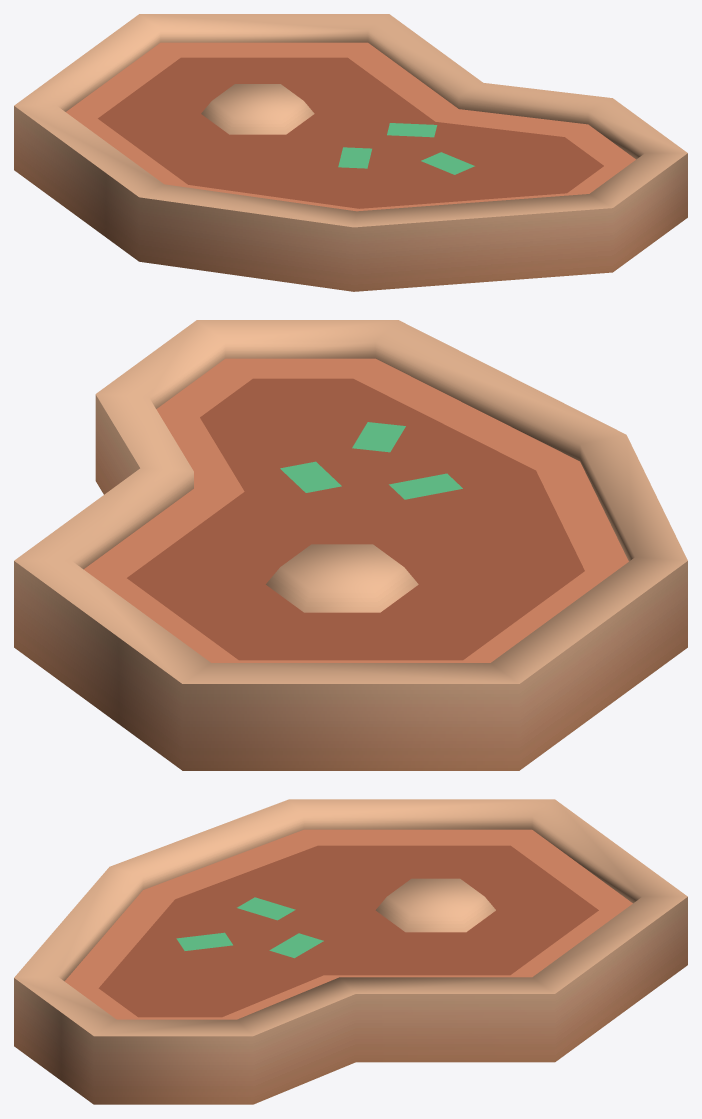
The model's file is meat-cooked.3678eced2d.glb.
3 views of the same model, one above another, from view 1: azimuth 30°, elevation 25°; view 2: azimuth 150°, elevation 25°; view 3: azimuth 270°, elevation 25° (orthographic). The views are drawn at different scales.
Parts seen in each view (by area): view 1: meat-cooked; view 2: meat-cooked; view 3: meat-cooked.
Boxes of the visible parts, box(x1,y1,x2,y2) form: meat-cooked: box(14, 14, 687, 291); meat-cooked: box(14, 320, 687, 770); meat-cooked: box(14, 799, 687, 1104).
Size of the model in its own units: 0.4785 by 0.0645 by 0.5754.
1 material, 1 textured.
